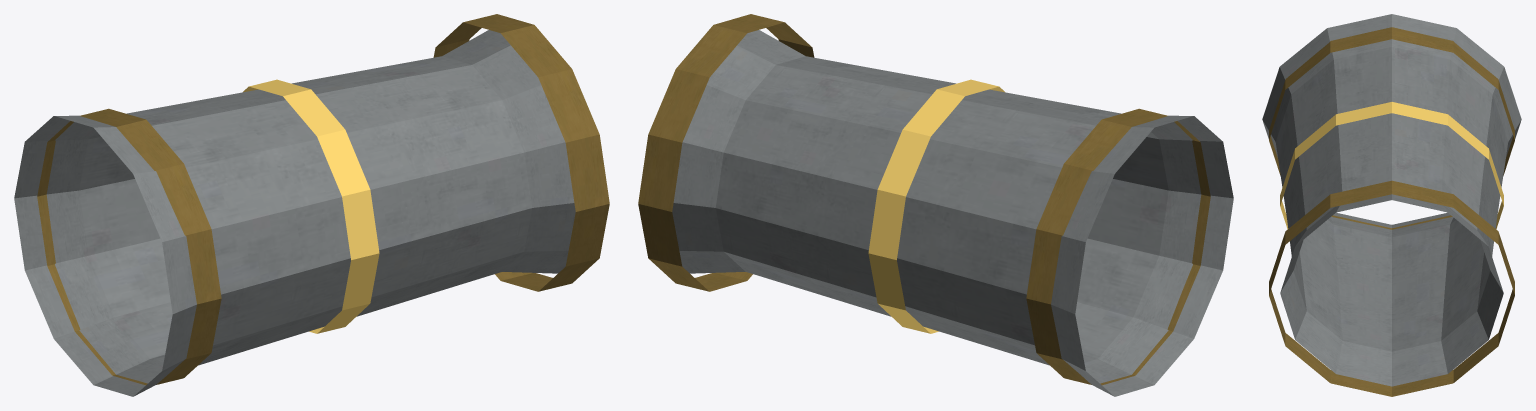
Rendered from eq_past_2_arm.glb.
3 views of the same model, side by side, from view 1: azimuth 30°, elevation 25°; view 2: azimuth 150°, elevation 25°; view 3: azimuth 270°, elevation 25° (orthographic). The views are drawn at different scales.
Parts seen in each view (by area): view 1: eq_past_2_arm; view 2: eq_past_2_arm; view 3: eq_past_2_arm.
Part boxes in pixels (x1,y1,x2,y2): eq_past_2_arm: (14, 14, 609, 396); eq_past_2_arm: (638, 14, 1233, 396); eq_past_2_arm: (1262, 14, 1521, 396).
Size of the model in its own units: 0.2423 by 0.1352 by 0.1508.
3 materials, 3 textured.
